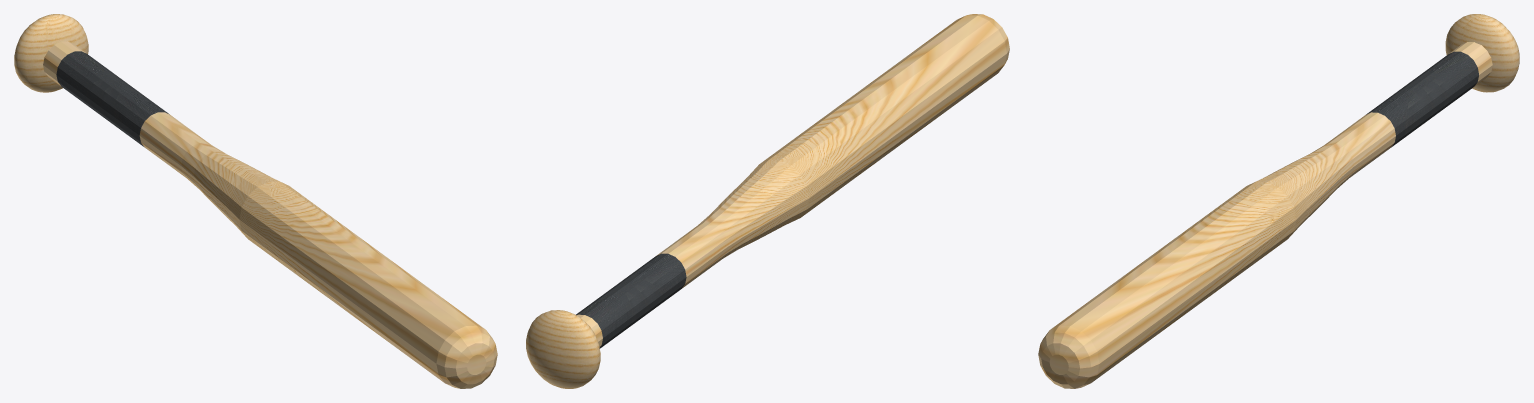
File: Baseball_bat.fbx
3 renders of one model, left to right at view 1: azimuth 30°, elevation 25°; view 2: azimuth 150°, elevation 25°; view 3: azimuth 330°, elevation 25°, orthographic.
Visible parts, largest first — view 1: pCylinder1, pSphere1; view 2: pCylinder1, pSphere1; view 3: pCylinder1, pSphere1.
Part boxes in pixels (box(x1,y1,x2,y2)): pCylinder1: box(43, 41, 497, 388); pSphere1: box(14, 14, 88, 92); pCylinder1: box(576, 14, 1009, 348); pSphere1: box(526, 310, 600, 388); pCylinder1: box(1038, 42, 1492, 388); pSphere1: box(1445, 14, 1519, 92).
Bounding box in the file's own units: 1.18 × 1.2 × 12.54.
3 materials, 3 textured.
